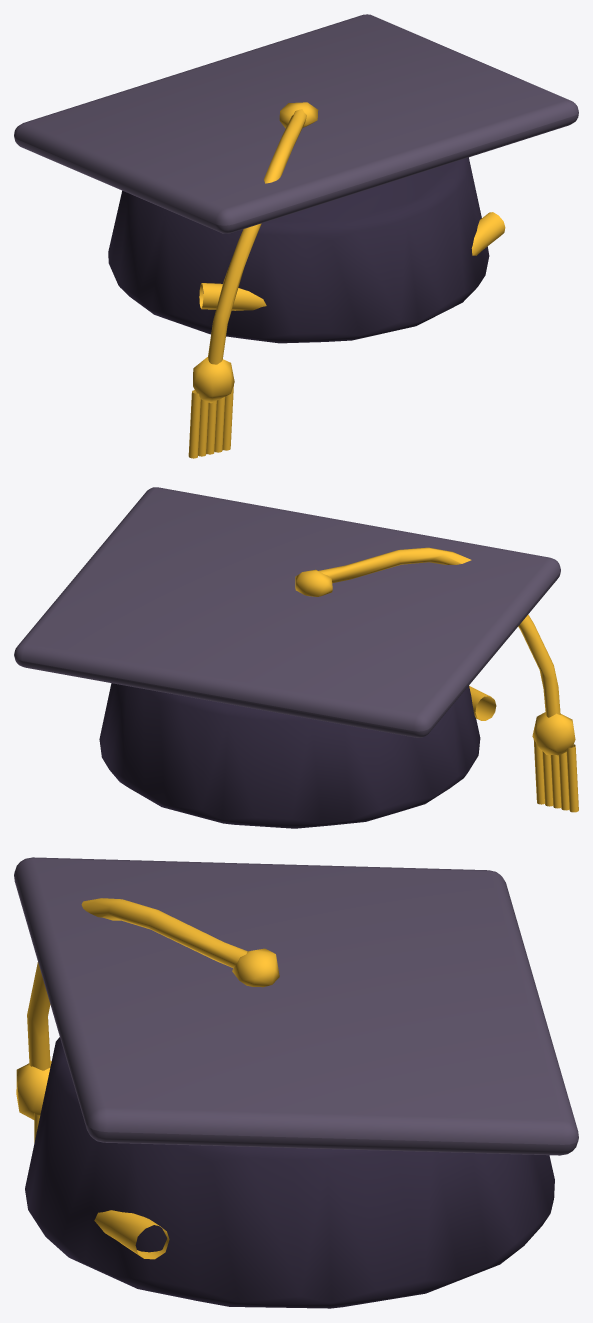
File: graduationcap.glb
The picture shows the model from 3 angles, top to bottom: view 1: azimuth 30°, elevation 25°; view 2: azimuth 150°, elevation 25°; view 3: azimuth 270°, elevation 25°; orthographic projection. The views are drawn at different scales.
Parts seen in each view (by area): view 1: graduationcap_Mortar Board, graduationcap_Cap Body, graduationcap_Tassel Cord, graduationcap_Gold Band, graduationcap_Tassel Knot, graduationcap_Tassel Strand 0, graduationcap_Top Button; view 2: graduationcap_Mortar Board, graduationcap_Cap Body, graduationcap_Tassel Cord, graduationcap_Tassel Knot, graduationcap_Top Button, graduationcap_Tassel Strand 0, graduationcap_Gold Band, graduationcap_Tassel Strand 4, graduationcap_Tassel Strand 1, graduationcap_Tassel Strand 2, graduationcap_Tassel Strand 3; view 3: graduationcap_Mortar Board, graduationcap_Cap Body, graduationcap_Tassel Cord, graduationcap_Gold Band, graduationcap_Top Button, graduationcap_Tassel Knot.
Part boxes in pixels (x1,y1,x2,y2): graduationcap_Mortar Board: (14,14,578,233); graduationcap_Cap Body: (108,157,489,343); graduationcap_Tassel Cord: (208,109,306,364); graduationcap_Gold Band: (199,212,505,310); graduationcap_Tassel Knot: (193,357,234,403); graduationcap_Tassel Strand 0: (188,390,200,458); graduationcap_Top Button: (279,102,318,128); graduationcap_Mortar Board: (14,487,560,737); graduationcap_Cap Body: (99,683,480,828); graduationcap_Tassel Cord: (318,547,560,717); graduationcap_Tassel Knot: (532,712,575,755); graduationcap_Top Button: (295,569,332,596); graduationcap_Tassel Strand 0: (566,744,578,812); graduationcap_Gold Band: (469,686,496,720); graduationcap_Tassel Strand 4: (533,739,544,804); graduationcap_Tassel Strand 1: (558,752,569,810); graduationcap_Tassel Strand 2: (550,755,561,808); graduationcap_Tassel Strand 3: (542,751,553,806); graduationcap_Mortar Board: (14,857,578,1155); graduationcap_Cap Body: (25,1037,554,1308); graduationcap_Tassel Cord: (27,898,247,1070); graduationcap_Gold Band: (94,1210,169,1259); graduationcap_Top Button: (232,948,279,987); graduationcap_Tassel Knot: (16,1060,51,1119).
Size of the model in its own units: 0.5192 by 0.3016 by 0.4308.
